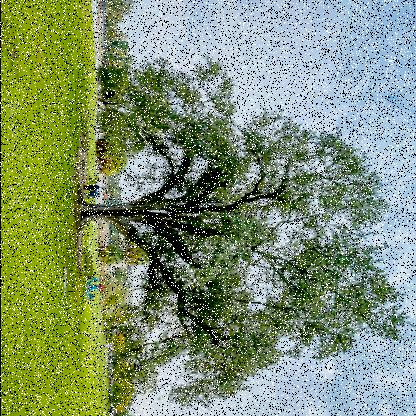Tree: (69, 61, 412, 408), (90, 53, 236, 154), (97, 236, 160, 268), (96, 107, 136, 139), (94, 66, 134, 90), (108, 329, 146, 354), (102, 304, 144, 326), (95, 82, 130, 107), (98, 0, 134, 24), (97, 136, 132, 160), (102, 390, 140, 412), (100, 376, 138, 398), (109, 269, 131, 303), (100, 366, 138, 385), (95, 154, 128, 174), (99, 50, 132, 69), (104, 354, 132, 370), (101, 26, 129, 42), (102, 40, 128, 56), (100, 274, 118, 296)
